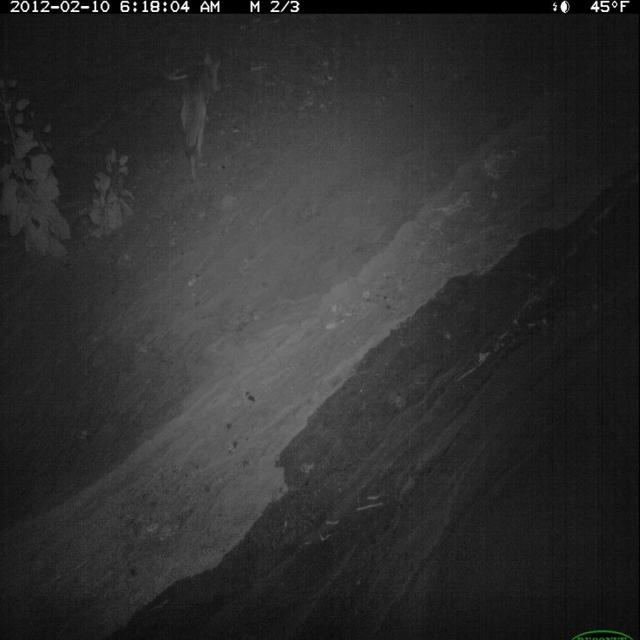coyote: (172, 40, 229, 188)
